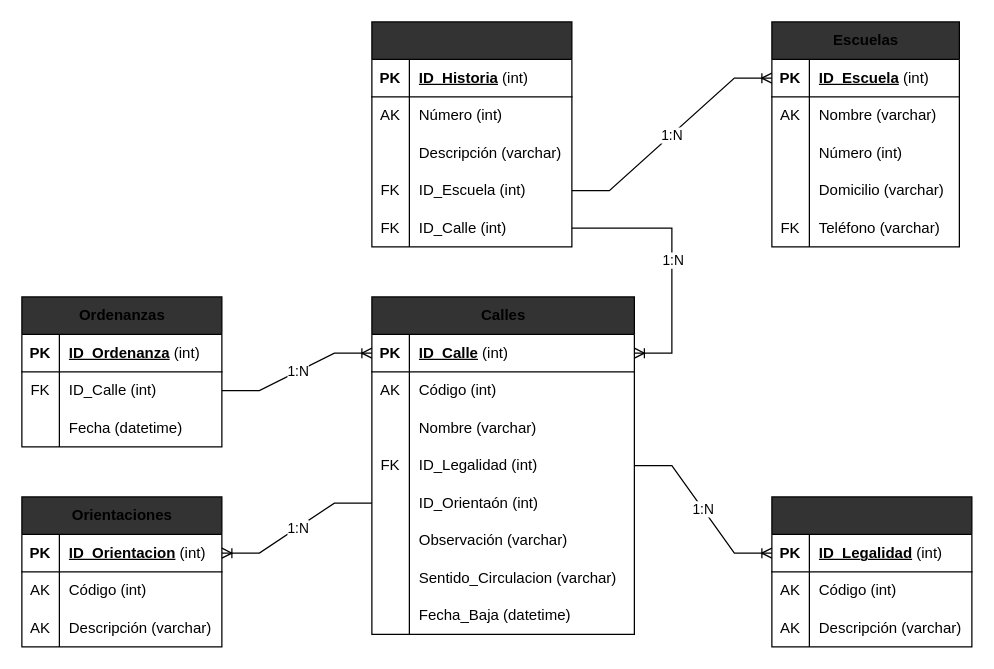
This 994x669 diagram has some shape labels left out. The box of each missing label's shape, as (x1, y1, x2, y2) in pixels:
Historias: (371, 21, 572, 247)
Legaliadades: (771, 496, 972, 647)
